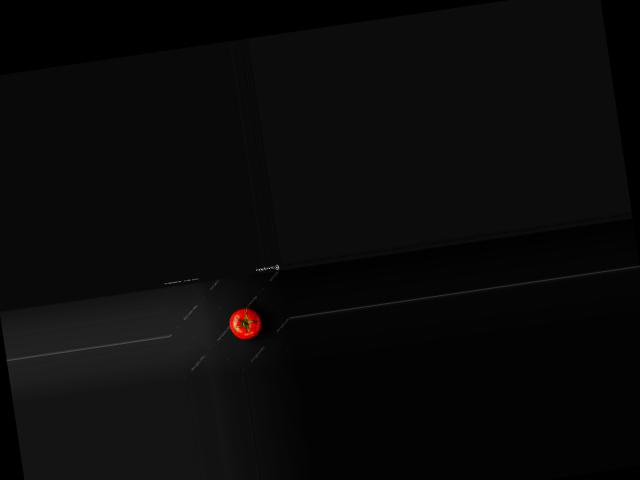tomato: (226, 305, 262, 341)
